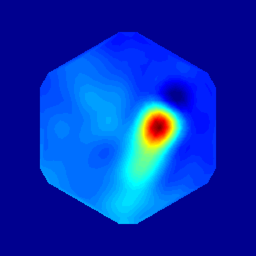ship: (158, 89, 180, 115)
wave: (141, 107, 176, 166)
